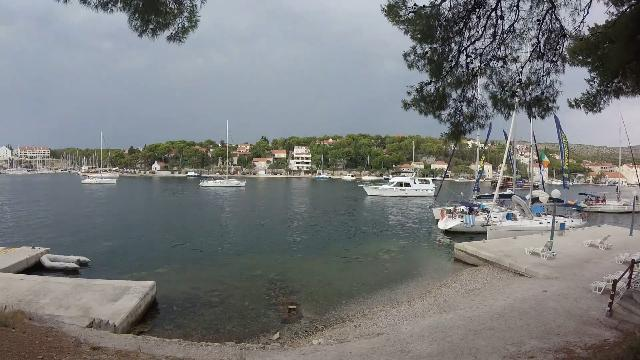Sailboat: (192, 173, 250, 191), (77, 172, 119, 187)
ferry: (356, 174, 444, 200)
